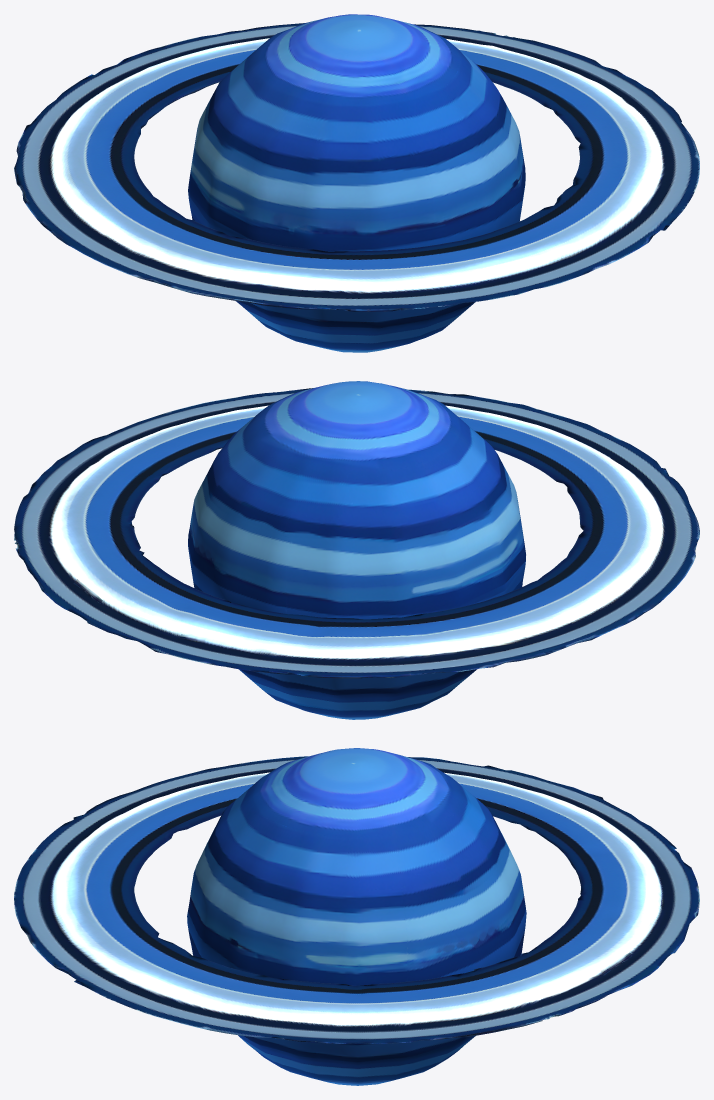
The model's file is Meshy_AI_Azure_Ringed_World_0520072106_texture.glb.
3 renders of one model, top to bottom at view 1: azimuth 30°, elevation 25°; view 2: azimuth 150°, elevation 25°; view 3: azimuth 270°, elevation 25°, orthographic.
Visible parts, largest first — view 1: Mesh_0; view 2: Mesh_0; view 3: Mesh_0.
Boxes of the visible parts, left/top/right/bottom form: Mesh_0: left=14, top=14, right=699, bottom=352; Mesh_0: left=14, top=381, right=699, bottom=719; Mesh_0: left=14, top=748, right=699, bottom=1085.
Bounding box in the file's own units: 1.91 × 0.9463 × 1.91.
Materials: 1 (1 with a texture image).
